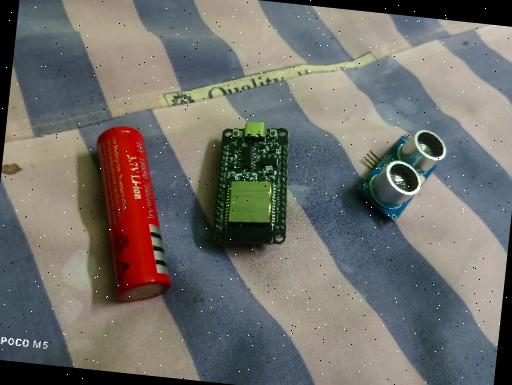Battery: (80, 123, 186, 306)
Esp32: (210, 117, 298, 250)
sensor: (352, 122, 448, 226)
